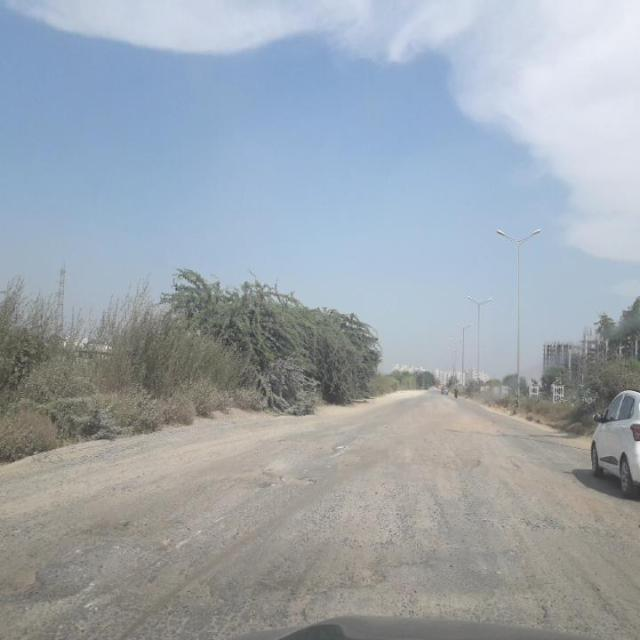Surface Erosion: (26, 397, 640, 640)
